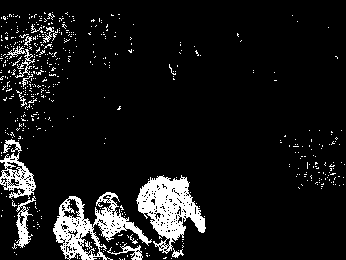person: (138, 176, 207, 255), (92, 191, 149, 259), (2, 140, 37, 248), (52, 194, 98, 260)
